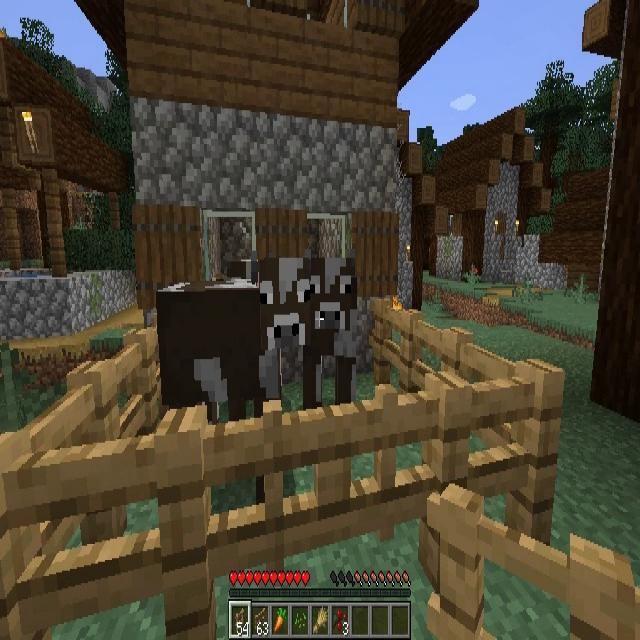cow: (158, 258, 304, 476), (304, 258, 356, 440)
